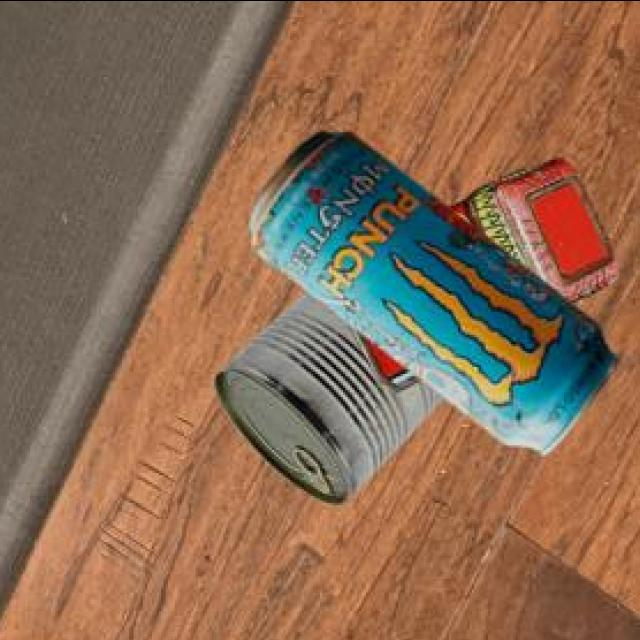logam: (247, 135, 614, 457), (349, 162, 616, 395), (211, 294, 439, 508)
